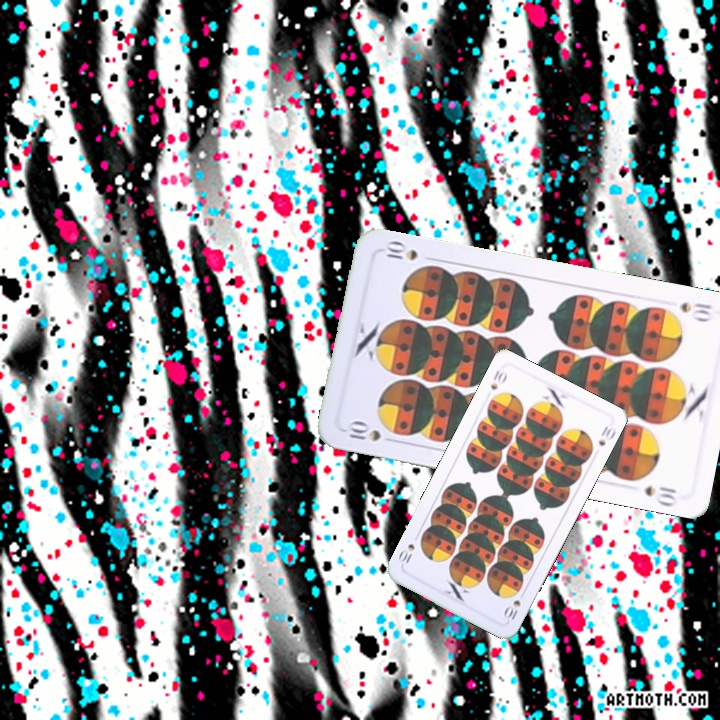S10: (341, 417, 399, 445), (499, 587, 528, 623), (677, 298, 715, 324), (486, 366, 510, 392)
